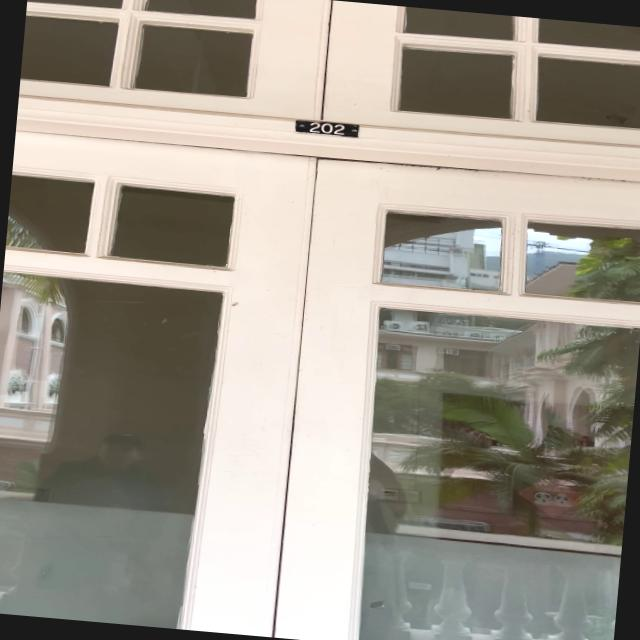room202: (288, 115, 364, 140)
